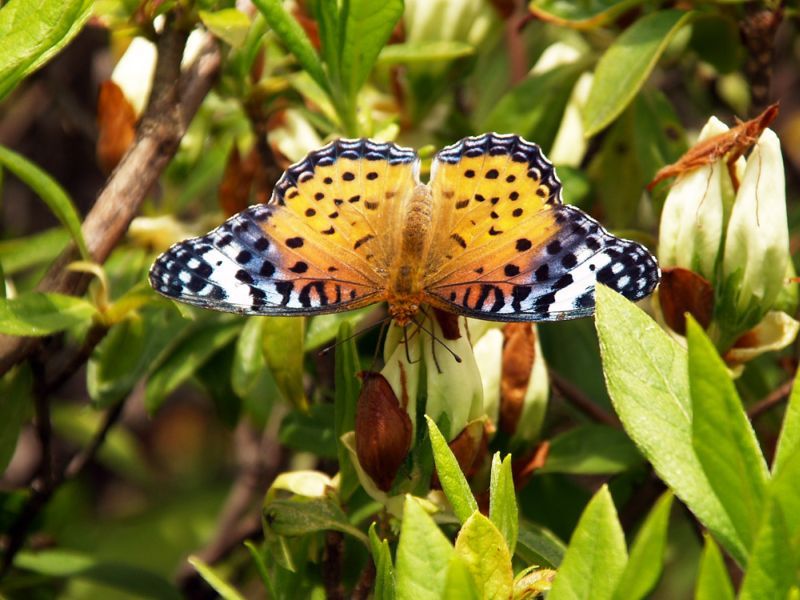Argyreus hyperbius: (144, 126, 663, 373)
butterfly: (146, 128, 665, 375)
